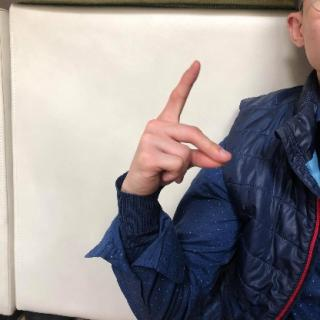TAA: (117, 56, 236, 199)
